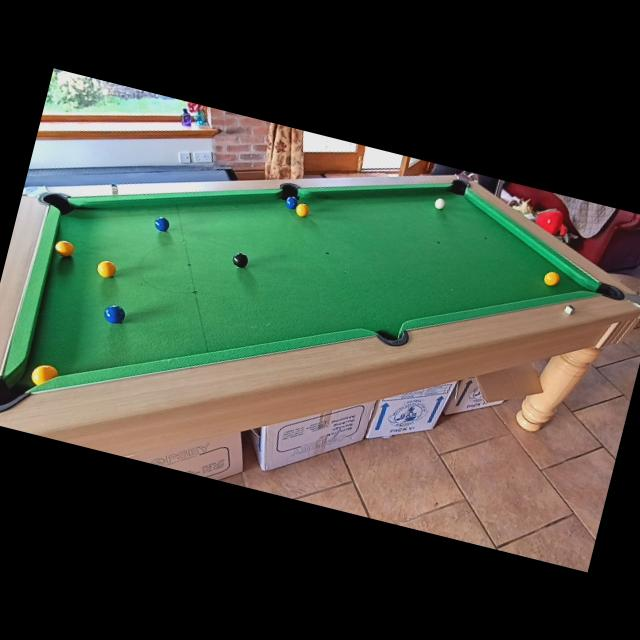Ball: (28, 362, 61, 391), (102, 302, 127, 326), (54, 238, 76, 258), (95, 258, 117, 278), (542, 270, 560, 288), (231, 251, 249, 269), (152, 215, 170, 232), (294, 202, 310, 219), (282, 194, 298, 210), (433, 197, 446, 210)
